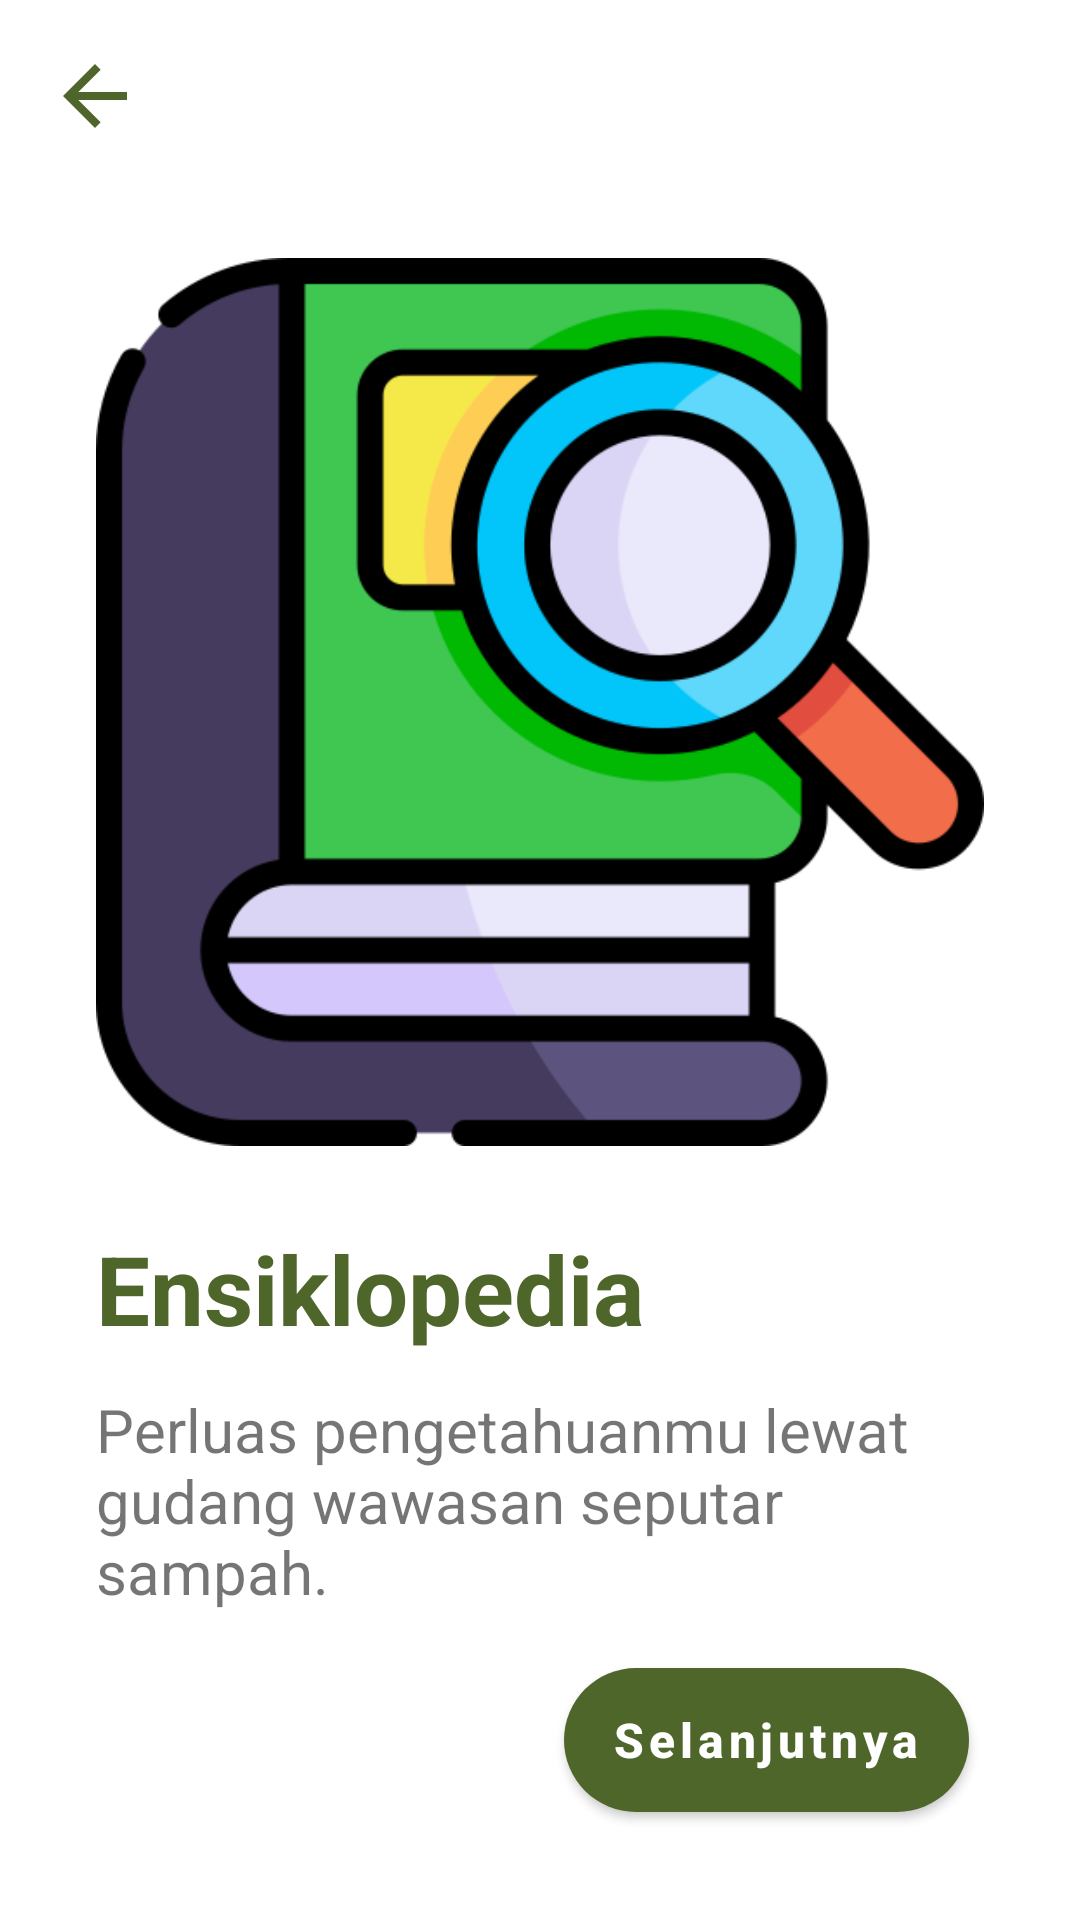

Icon bounding boxes for this 1080×1920 phone screenshot, format (x1, y1, x2, y2):
arrow back: (63, 64, 127, 128)
